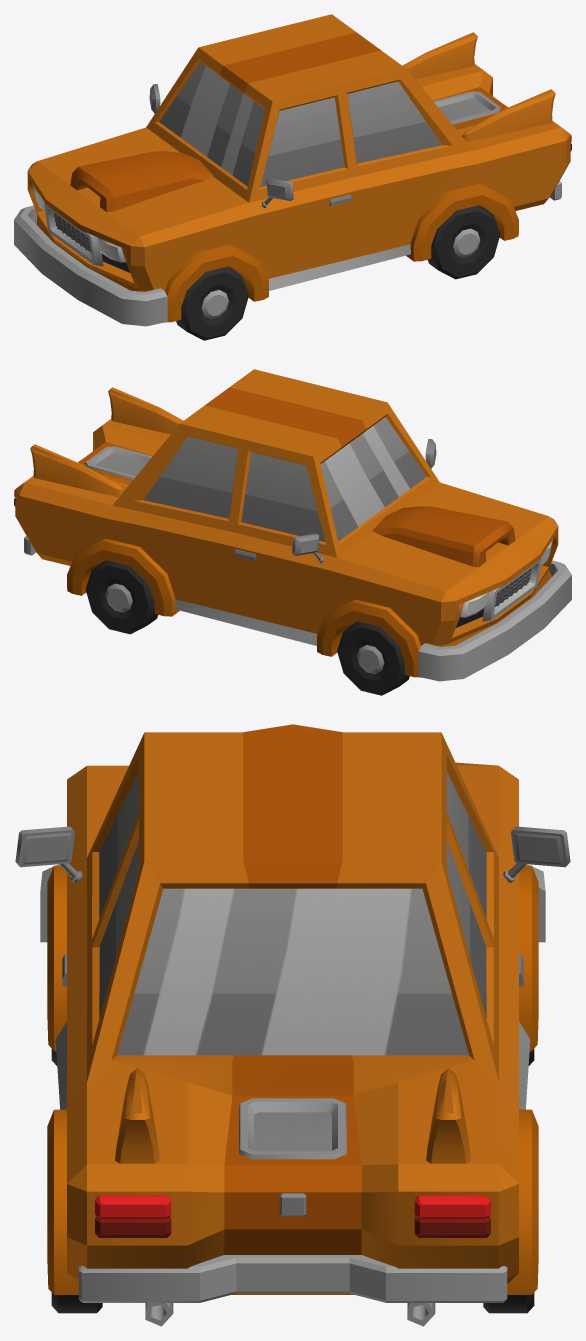
The model's file is Car_10_T.fbx.
3 views of the same model, one above another, from view 1: azimuth 30°, elevation 25°; view 2: azimuth 150°, elevation 25°; view 3: azimuth 270°, elevation 25° (orthographic). The views are drawn at different scales.
Parts seen in each view (by area): view 1: Car_10_T, RL, FL; view 2: Car_10_T, RR, FR; view 3: Car_10_T, RL, RR.
Part boxes in pixels (left/top/right/bottom): Car_10_T: left=14, top=14, right=571, bottom=326; RL: left=428, top=205, right=500, bottom=279; FL: left=176, top=266, right=248, bottom=340; Car_10_T: left=14, top=369, right=571, bottom=681; RR: left=85, top=560, right=157, bottom=634; FR: left=337, top=621, right=409, bottom=695; Car_10_T: left=15, top=724, right=570, bottom=1326; RL: left=51, top=1293, right=102, bottom=1313; RR: left=483, top=1293, right=534, bottom=1313.
Bounding box in the file's own units: 358 × 149 × 185.
